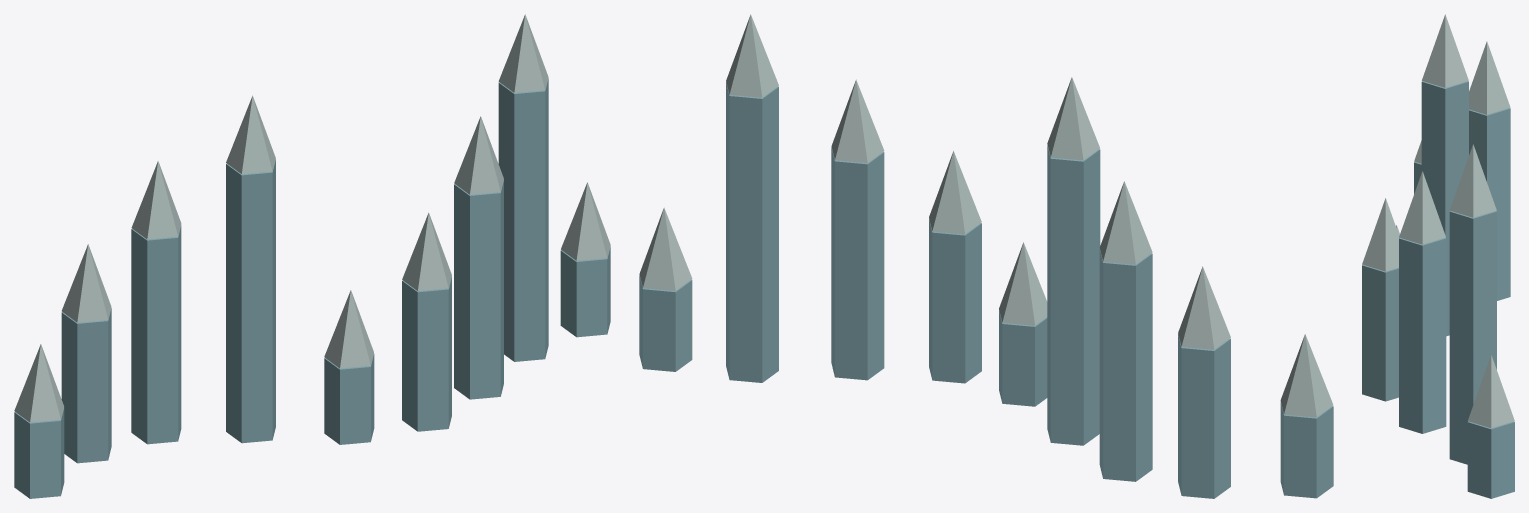
File: map-exclusive-v3__frost_14.glb
3 renders of one model, left to right at view 1: azimuth 30°, elevation 25°; view 2: azimuth 150°, elevation 25°; view 3: azimuth 270°, elevation 25°, orthographic. The views are drawn at different scales.
Parts seen in each view (by area): view 1: frost_14; view 2: frost_14; view 3: frost_14.
Boxes of the visible parts, x1,y1,x2,y2 form: frost_14: [14, 14, 610, 498]; frost_14: [639, 14, 1333, 498]; frost_14: [1362, 14, 1514, 498].
Size of the model in its own units: 2.92 by 1.52 by 0.6769.
